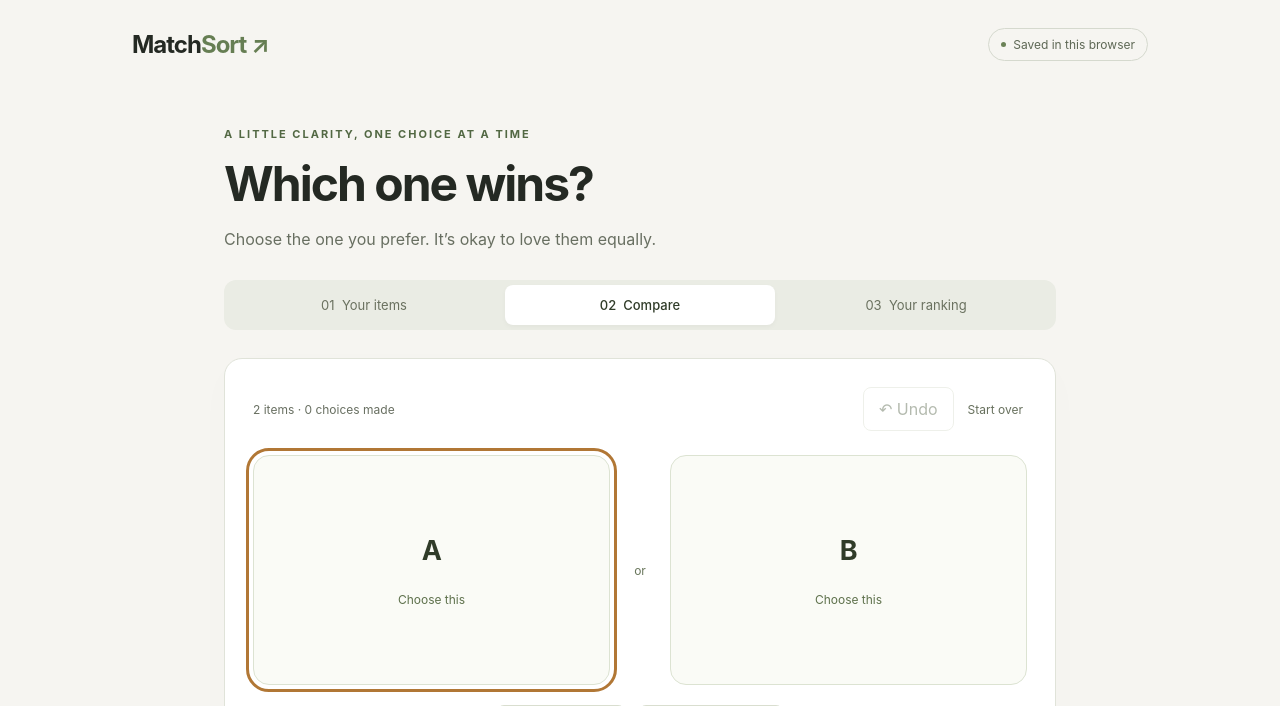
it: records a winner from either side (B)
This screenshot has width=1280, height=706.
What coordinates should you click on to do the following:
click the button "B Choose this"
I would click on:
 (848, 599)
Its box is [670,455,1027,685].
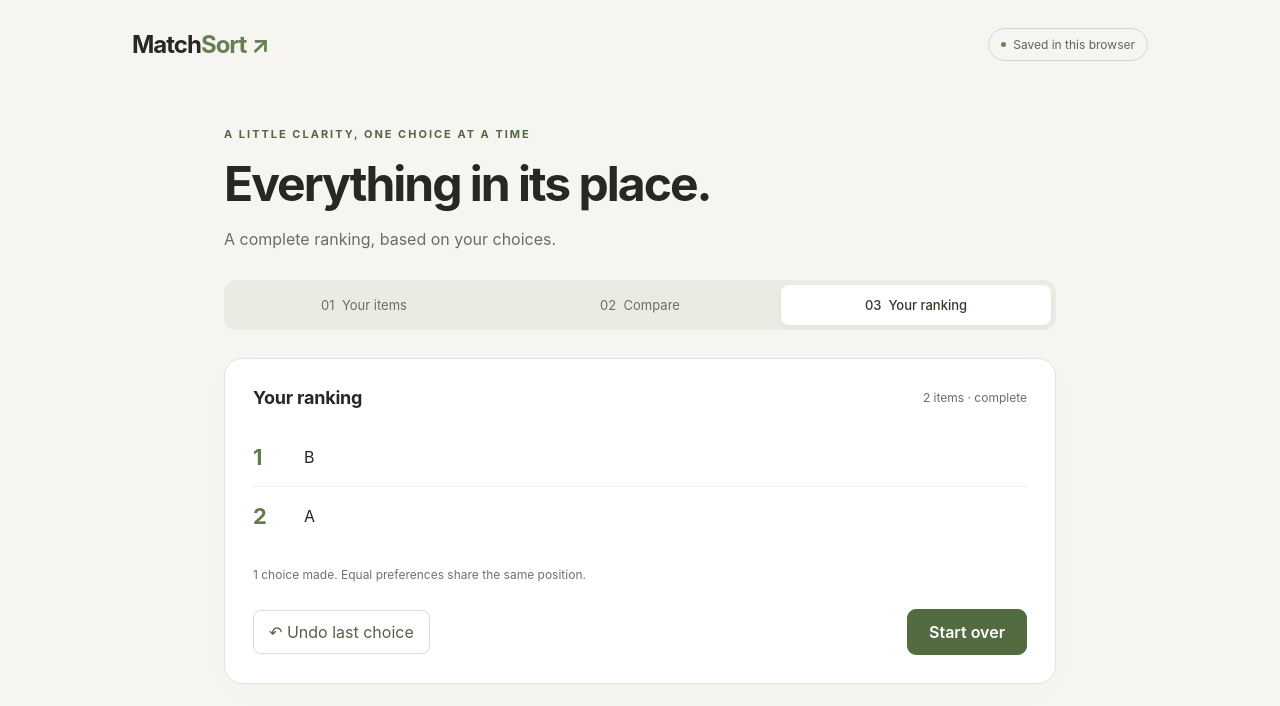
Now the list item "1 B" is shown, box [253,428,1027,487]
